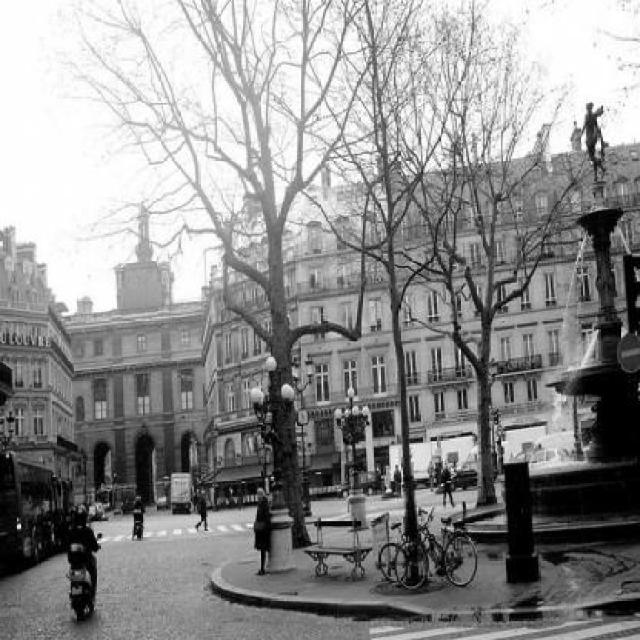Person: (66, 504, 100, 605), (251, 482, 271, 570), (442, 464, 456, 507), (193, 488, 207, 530), (131, 494, 144, 537), (391, 463, 402, 495), (424, 456, 433, 490), (237, 478, 246, 508), (433, 458, 439, 488)
